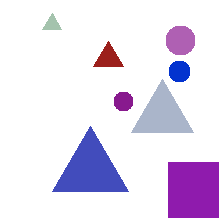circle: (166, 26, 194, 54), (169, 61, 189, 81), (114, 92, 132, 110)
rectangle: (168, 162, 218, 217)
triangle: (52, 126, 128, 191), (131, 79, 193, 132), (93, 41, 123, 66), (42, 13, 61, 29)
